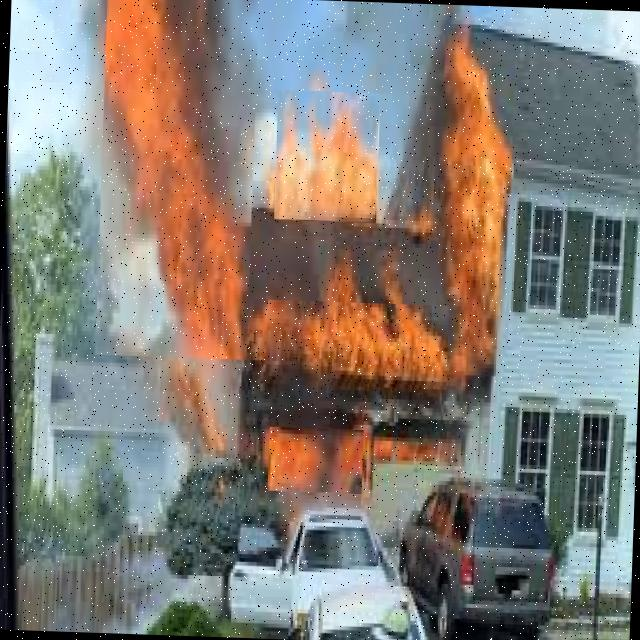fire: (93, 0, 256, 360), (433, 21, 518, 377), (246, 303, 447, 388), (273, 90, 380, 223), (267, 426, 363, 494)
